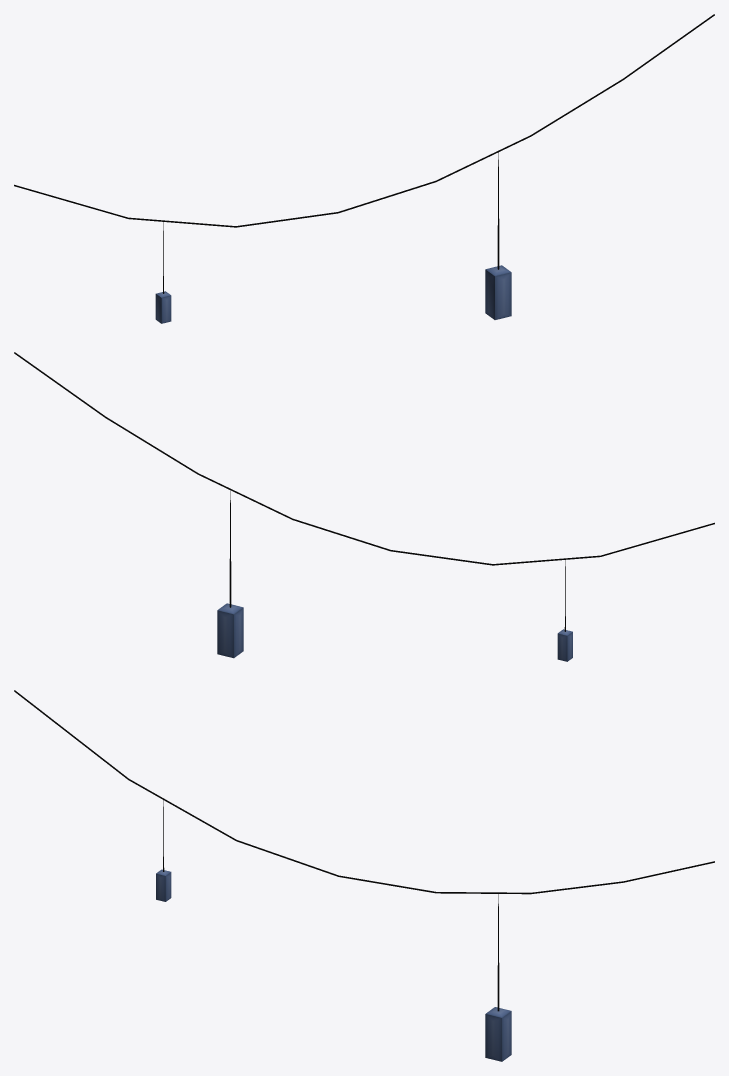
The model's file is Garland_A_2_QuadLamps_Blue.fbx.
3 views of the same model, one above another, from view 1: azimuth 30°, elevation 25°; view 2: azimuth 150°, elevation 25°; view 3: azimuth 330°, elevation 25° (orthographic).
Parts seen in each view (by area): view 1: Garland_A_2_QuadLamps_Blue; view 2: Garland_A_2_QuadLamps_Blue; view 3: Garland_A_2_QuadLamps_Blue.
Boxes of the visible parts, x1=… form: Garland_A_2_QuadLamps_Blue: x1=14, y1=14, x2=714, y2=323; Garland_A_2_QuadLamps_Blue: x1=14, y1=352, x2=714, y2=661; Garland_A_2_QuadLamps_Blue: x1=14, y1=690, x2=714, y2=1061.
Size of the model in its own units: 673 by 229 by 18.51.
